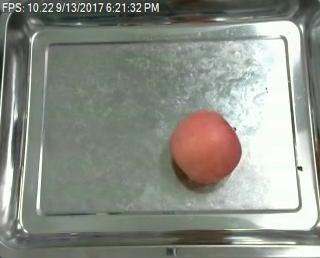apple: (170, 108, 243, 186)
